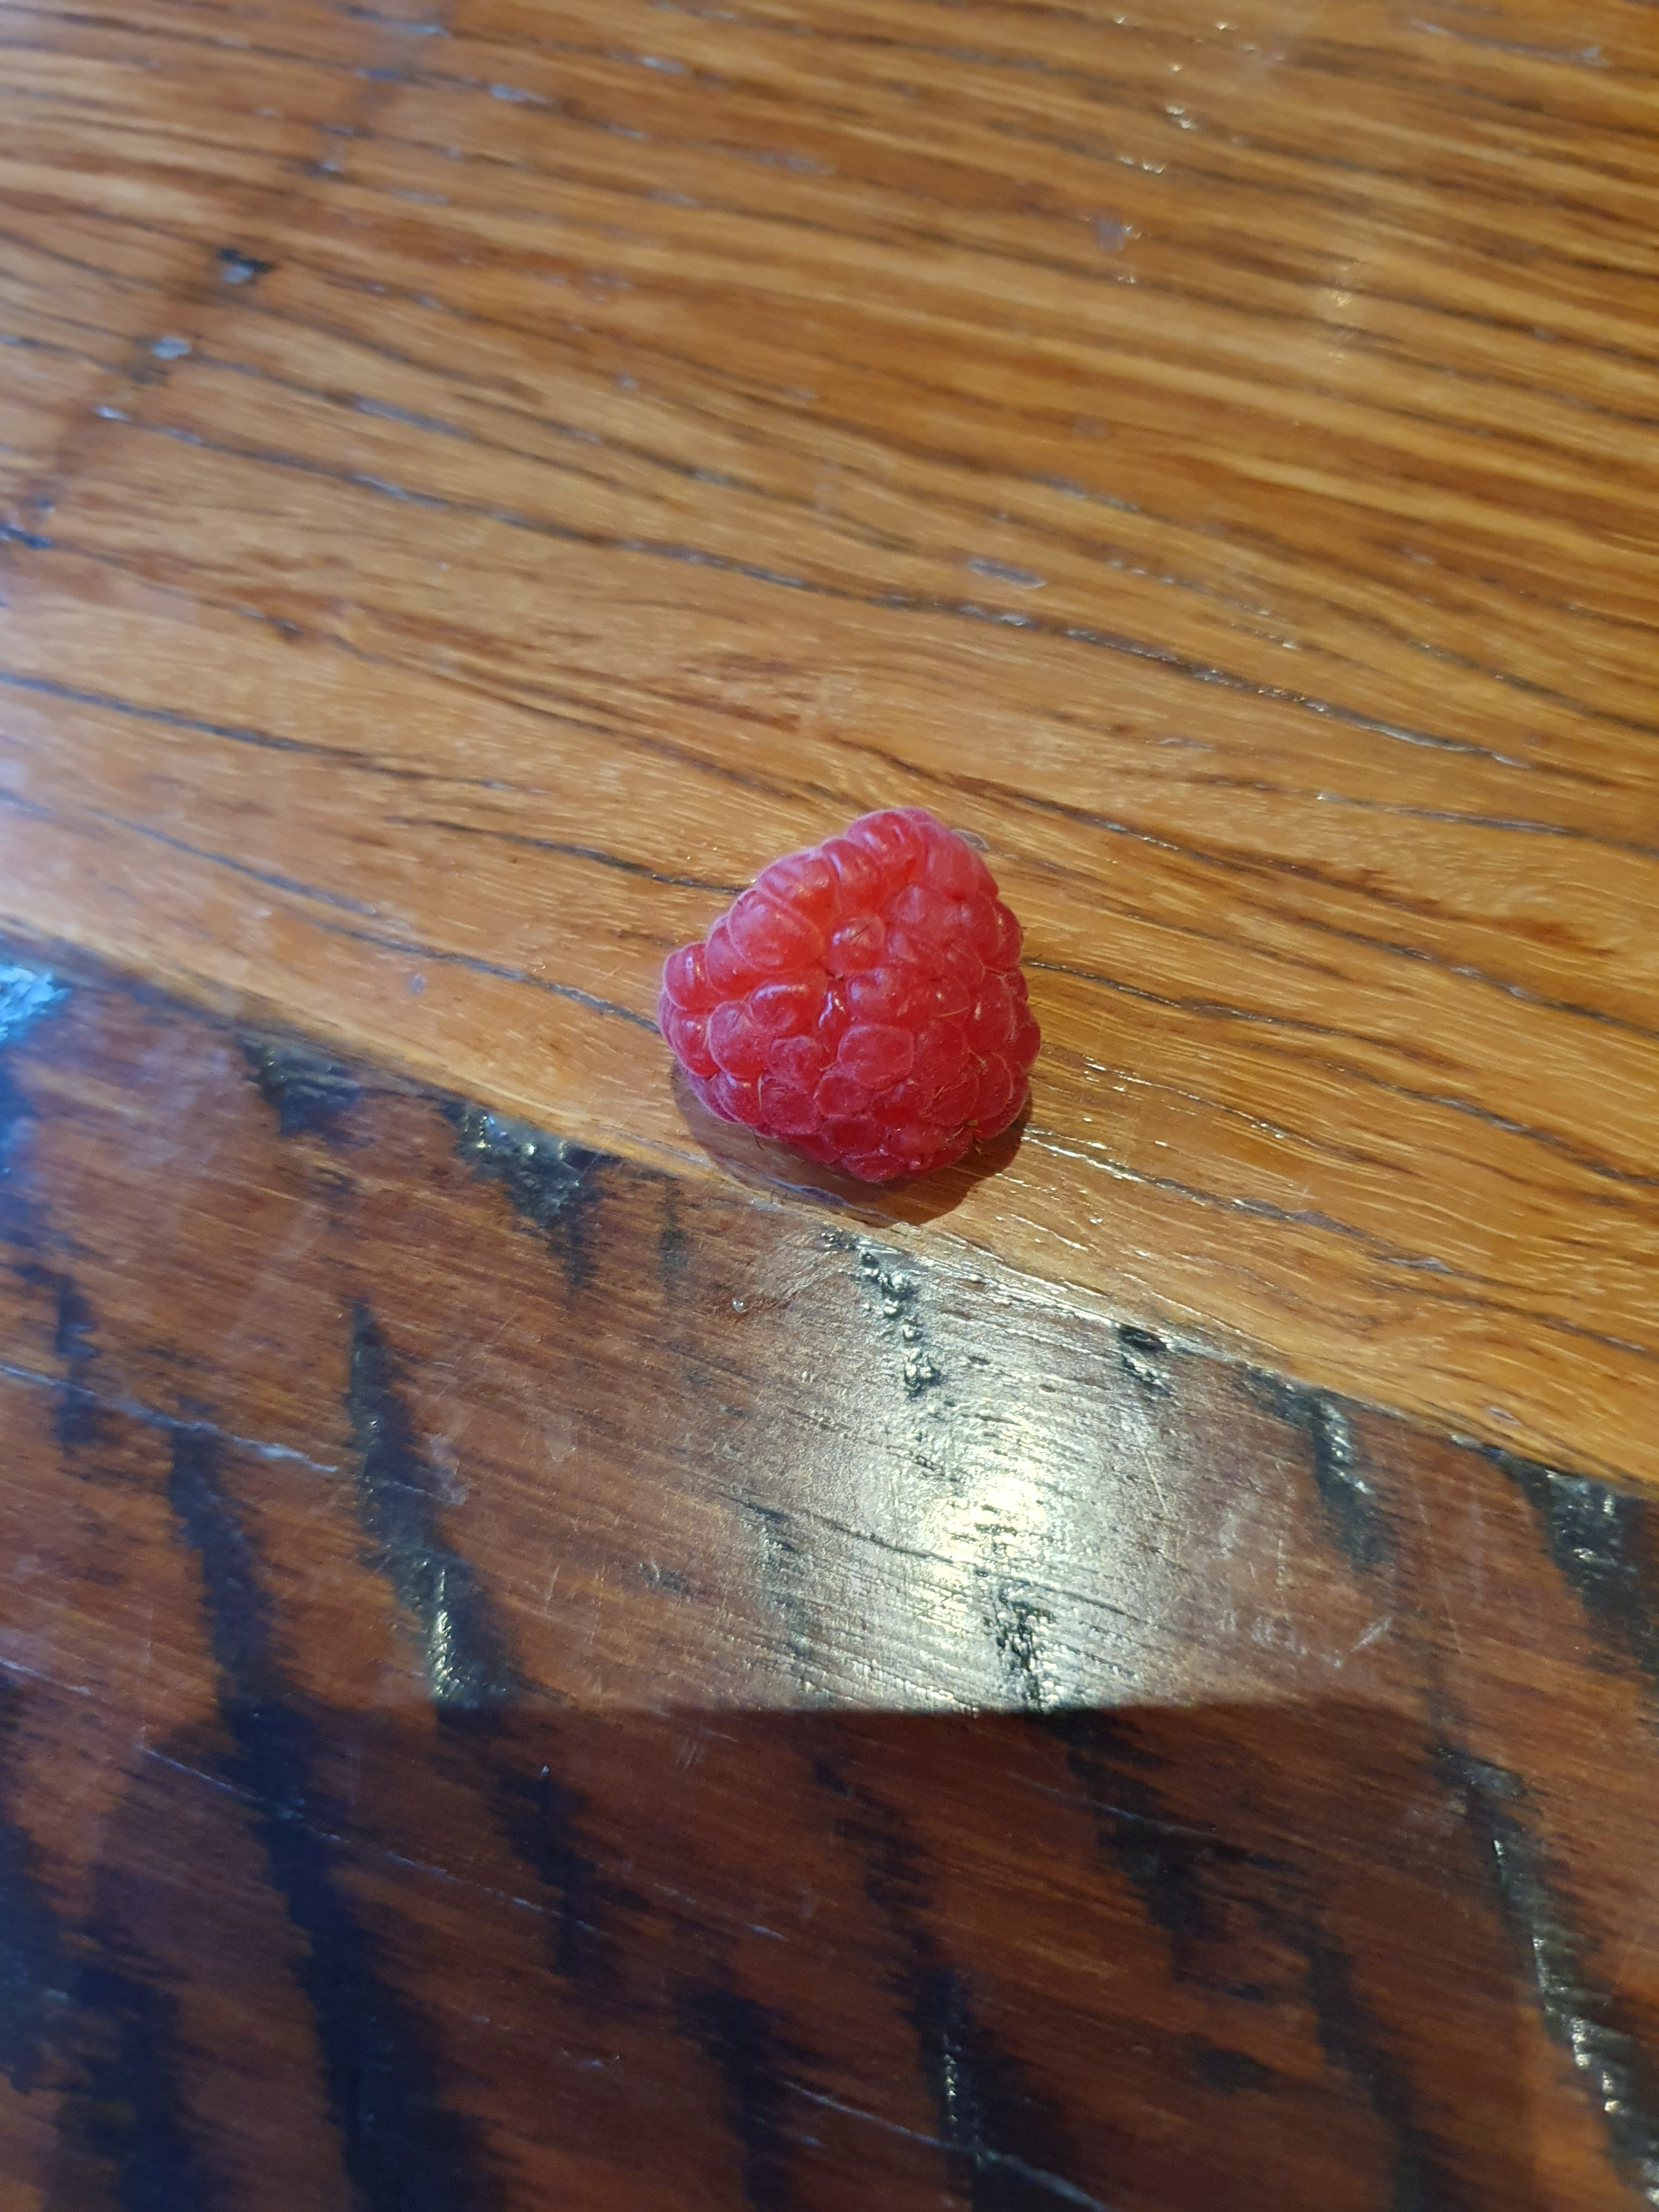raspberry: (622, 812, 1068, 1223)
